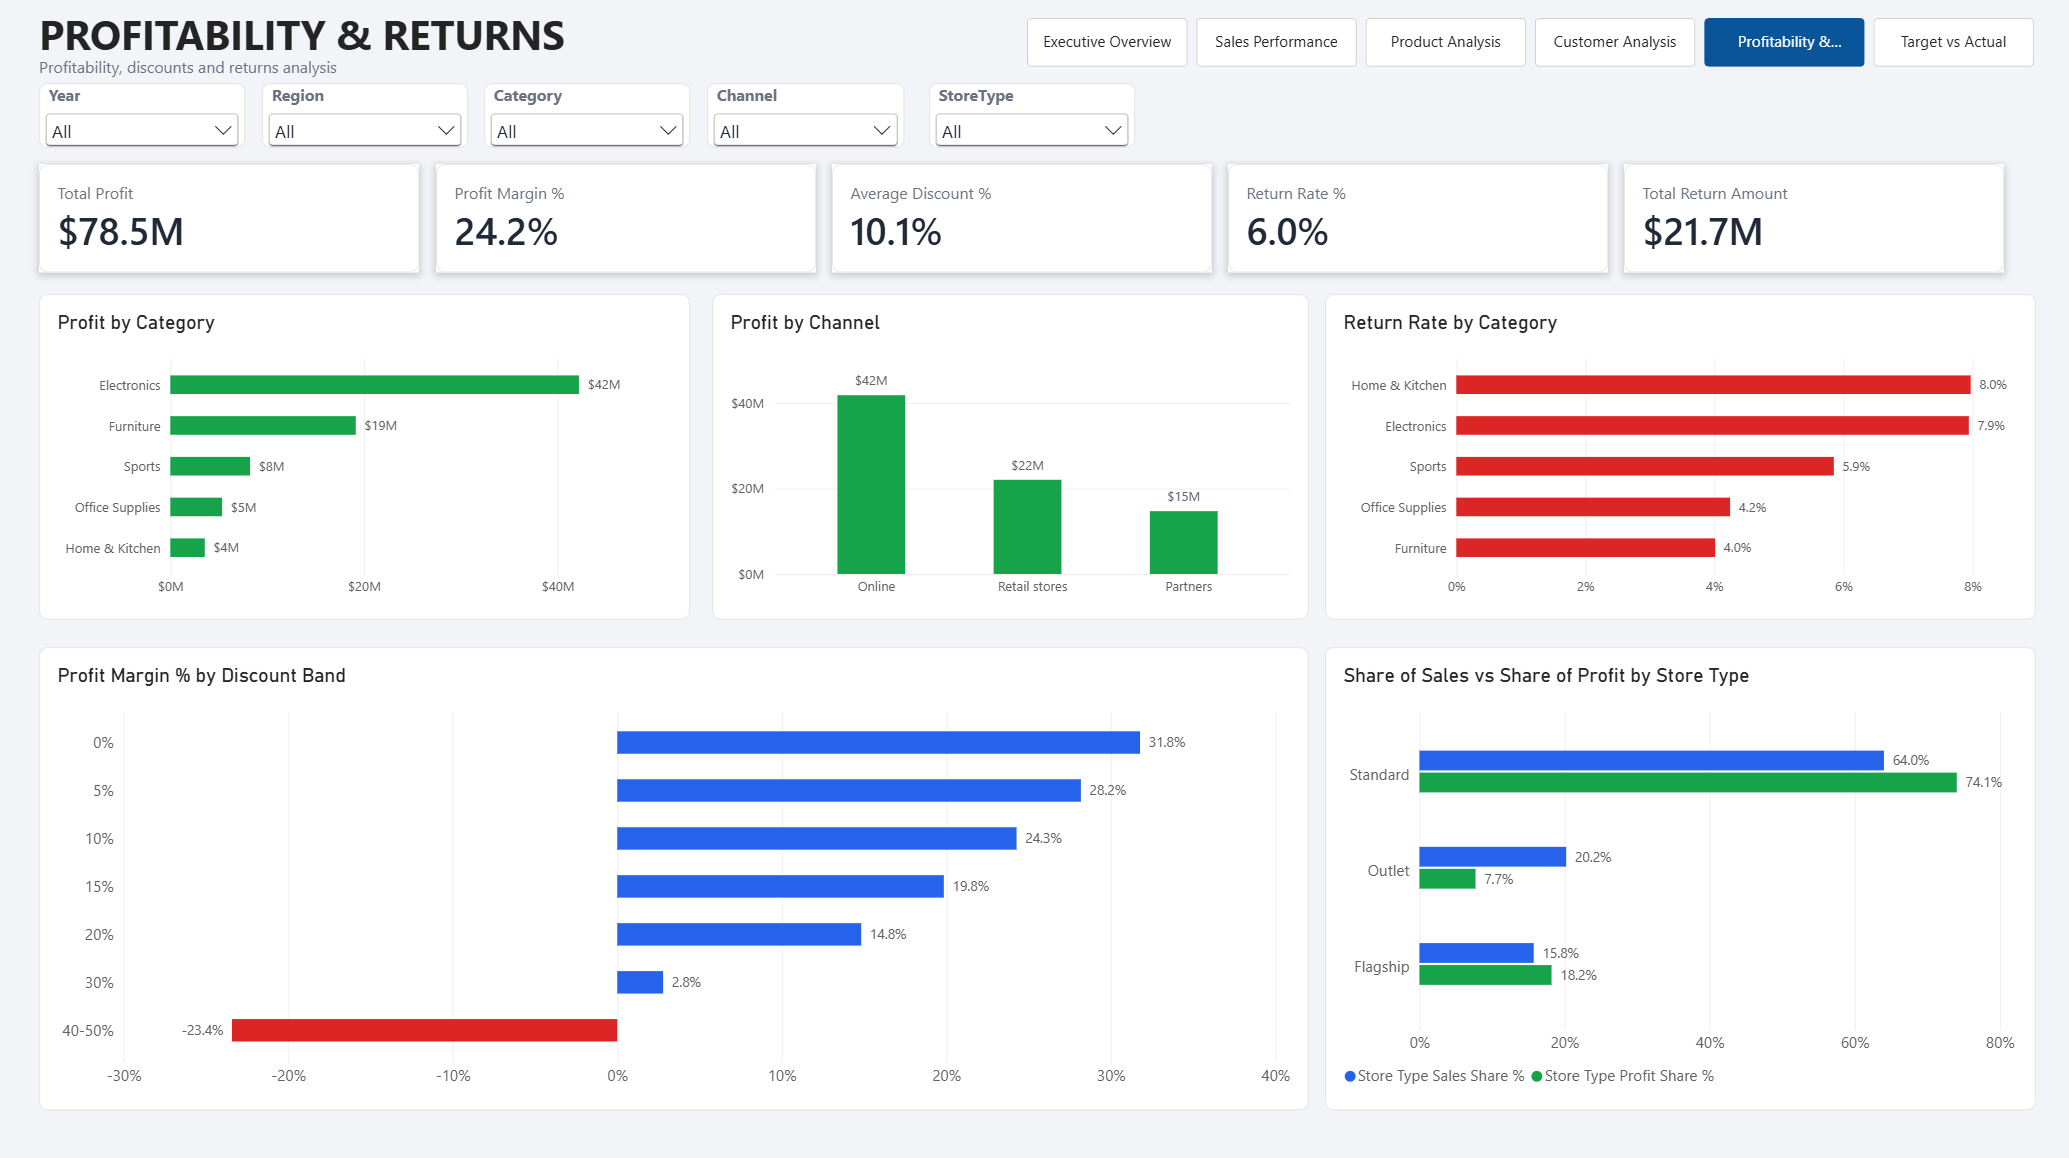

The page's visual inventory and layout, read from the dashboard file:
{"tool":"powerbi","page":{"name":"Profitability & Returns","canvas":[1920,1080],"ordinal":4},"visuals":[{"type":"slicer","fields":{"Values":["DimDate.Year"]},"box":[40,80,190,60],"z":0},{"type":"slicer","fields":{"Values":["DimRegion.Region"]},"box":[245,80,190,60],"z":1000},{"type":"slicer","fields":{"Values":["FactSales.Channel"]},"box":[655,80,181.5,60],"z":2000},{"type":"slicer","fields":{"Values":["DimProducts.Category"]},"box":[450,80,190,60],"z":3000},{"type":"slicer","fields":{"Values":["DimStores.StoreType"]},"box":[860,80,190,60],"z":4000},{"type":"columnChart","title":"Profit by Channel","fields":{"Category":["FactSales.Channel"],"Y":["_Measures.Total Profit"]},"box":[660,275,550,300],"z":5000},{"type":"barChart","title":"Return Rate by Category","fields":{"Category":["DimProducts.Category"],"Y":["_Measures.Return Rate %"]},"box":[1225,275,655,300],"z":6000},{"type":"clusteredBarChart","title":"Profit Margin % by Discount Band","fields":{"Category":["FactSales.Discount Band"],"Y":["_Measures.Profit Margin %"]},"box":[39.6,599.9,1170.3,426.7],"z":7000},{"type":"barChart","title":"Profit by Category","fields":{"Category":["DimProducts.Category"],"Y":["_Measures.Total Profit"]},"box":[40,275,600,300],"z":8000},{"type":"pageNavigator","box":[950,20,930,45.2],"z":9000},{"type":"textbox","box":[40,10,700,50],"z":10000},{"type":"cardVisual","fields":{"Data":["_Measures.Total Profit"]},"box":[40,155,350,100],"z":11000},{"type":"cardVisual","fields":{"Data":["_Measures.Profit Margin %"]},"box":[405,155,350,100],"z":12000},{"type":"cardVisual","fields":{"Data":["_Measures.Average Discount %"]},"box":[770,155,350,100],"z":13000},{"type":"cardVisual","fields":{"Data":["_Measures.Return Rate %"]},"box":[1135,155.1,350,100],"z":14000},{"type":"cardVisual","fields":{"Data":["_Measures.Total Return Amount"]},"box":[1500,155.1,350,100],"z":15000},{"type":"textbox","box":[40,55,800,20],"z":16000},{"type":"clusteredBarChart","title":"Share of Sales vs Share of Profit by Store Type","fields":{"Category":["DimStores.StoreType"],"Y":["_Measures.Store Type Sales Share %","_Measures.Store Type Profit Share %"]},"box":[1224.7,599.9,655.2,426.7],"z":17000}]}

Visuals, with their boxes in screenshot pixels (x1, y1, x2, y2), scaled from the page's 1920x1080 canvas onto the 2069x1158 screenshot:
slicer - DimDate.Year: Rect(43, 86, 248, 150)
slicer - DimRegion.Region: Rect(264, 86, 469, 150)
slicer - FactSales.Channel: Rect(706, 86, 901, 150)
slicer - DimProducts.Category: Rect(485, 86, 690, 150)
slicer - DimStores.StoreType: Rect(927, 86, 1131, 150)
"Profit by Channel" columnChart: Rect(711, 295, 1304, 617)
"Return Rate by Category" barChart: Rect(1320, 295, 2026, 617)
"Profit Margin % by Discount Band" clusteredBarChart: Rect(43, 643, 1304, 1101)
"Profit by Category" barChart: Rect(43, 295, 690, 617)
pageNavigator: Rect(1024, 21, 2026, 70)
textbox: Rect(43, 11, 797, 64)
cardVisual - _Measures.Total Profit: Rect(43, 166, 420, 273)
cardVisual - _Measures.Profit Margin %: Rect(436, 166, 814, 273)
cardVisual - _Measures.Average Discount %: Rect(830, 166, 1207, 273)
cardVisual - _Measures.Return Rate %: Rect(1223, 166, 1600, 274)
cardVisual - _Measures.Total Return Amount: Rect(1616, 166, 1994, 274)
textbox: Rect(43, 59, 905, 80)
"Share of Sales vs Share of Profit by Store Type" clusteredBarChart: Rect(1320, 643, 2026, 1101)
